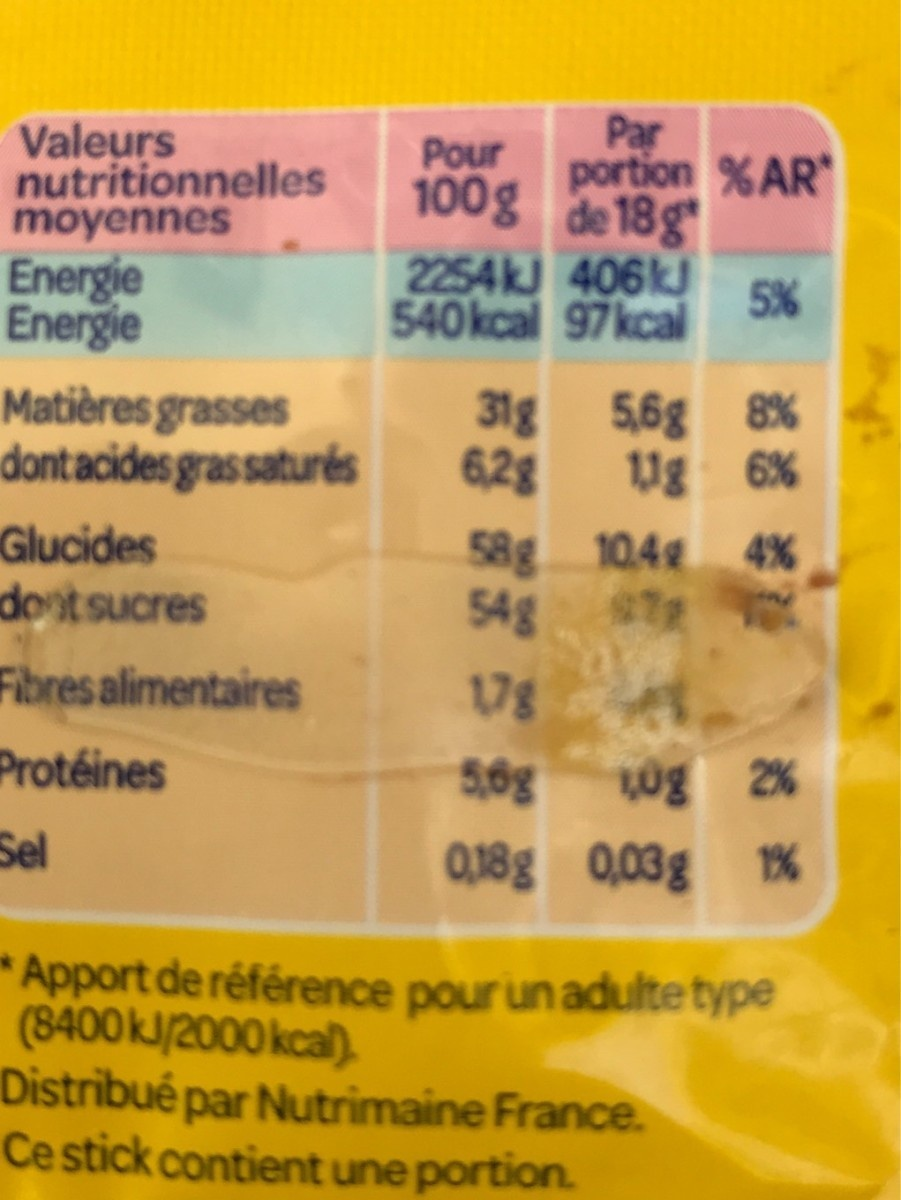column: (1, 115, 367, 881), (392, 110, 543, 908), (556, 108, 700, 912), (718, 106, 831, 910)
table: (1, 99, 840, 938)
